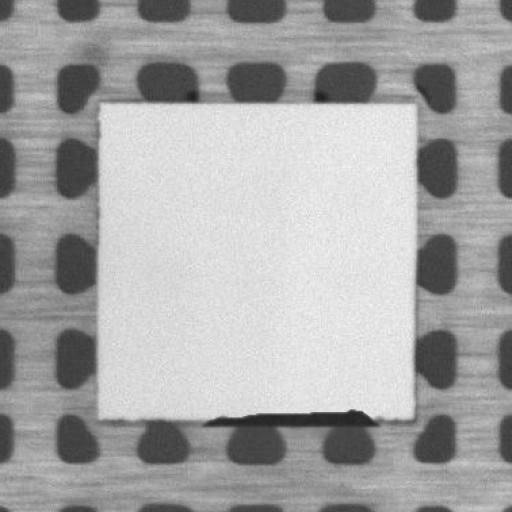DIE_BROKEN: (200, 400, 382, 425)
